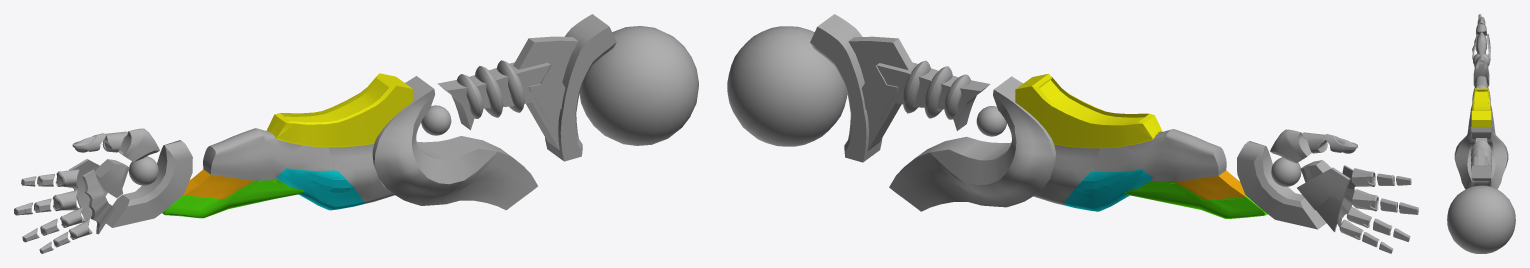
The model's file is ArmWithFingers.fbx.
The picture shows the model from 3 angles, left to right: view 1: azimuth 30°, elevation 25°; view 2: azimuth 150°, elevation 25°; view 3: azimuth 270°, elevation 25°; orthographic projection. The views are drawn at different scales.
Visible parts, largest first — view 1: BigBall, EllbowArch, Stock, ForarmFull, ForarmScope, Palm, ForarmMiddle, StockRings, ForarmVerticalGrip, Inside_piece, Thumb1, MiddlePiece (+6 smaller); view 2: BigBall, EllbowArch, Stock, ForarmFull, ForarmScope, Palm, ForarmMiddle, StockRings, Hand_Backpiece, ForarmVerticalGrip, Thumb1, EllbowBall (+8 smaller); view 3: BigBall, EllbowArch, Stock, ForarmScope, ForarmFull, Palm, StockRings, Thumb1, ForarmMiddle, Thumb2, HandBall, Hand_Backpiece (+2 smaller).
Part boxes in pixels (<box>): BigBall: <box>579,26,698,145</box>; EllbowArch: <box>372,76,537,210</box>; Stock: <box>437,14,616,161</box>; ForarmFull: <box>163,77,409,213</box>; ForarmScope: <box>266,73,412,146</box>; Palm: <box>106,140,192,227</box>; ForarmMiddle: <box>252,128,394,203</box>; StockRings: <box>457,60,524,118</box>; ForarmVerticalGrip: <box>162,181,304,218</box>; Inside_piece: <box>82,169,115,234</box>; Thumb1: <box>118,128,159,161</box>; MiddlePiece: <box>95,159,129,197</box>; BigBall: <box>727,26,847,146</box>; EllbowArch: <box>889,76,1055,211</box>; Stock: <box>810,14,990,162</box>; ForarmFull: <box>1020,78,1266,214</box>; ForarmScope: <box>1015,73,1162,147</box>; Palm: <box>1237,141,1326,229</box>; ForarmMiddle: <box>1034,129,1176,205</box>; StockRings: <box>902,60,970,119</box>; Hand_Backpiece: <box>1297,167,1350,232</box>; ForarmVerticalGrip: <box>1124,182,1267,218</box>; Thumb1: <box>1270,129,1311,163</box>; EllbowBall: <box>976,106,1006,136</box>; BigBall: <box>1447,185,1515,253</box>; EllbowArch: <box>1454,127,1508,189</box>; Stock: <box>1471,138,1491,186</box>; ForarmScope: <box>1471,88,1491,120</box>; ForarmFull: <box>1467,76,1495,133</box>; Palm: <box>1473,55,1489,86</box>; StockRings: <box>1471,140,1491,171</box>; Thumb1: <box>1476,32,1487,55</box>; ForarmMiddle: <box>1468,85,1494,131</box>; Thumb2: <box>1476,24,1486,36</box>; HandBall: <box>1473,53,1489,65</box>; Hand_Backpiece: <box>1486,34,1490,66</box>.
Bounding box in the file's own units: 64.81 × 15.62 × 9.96.
